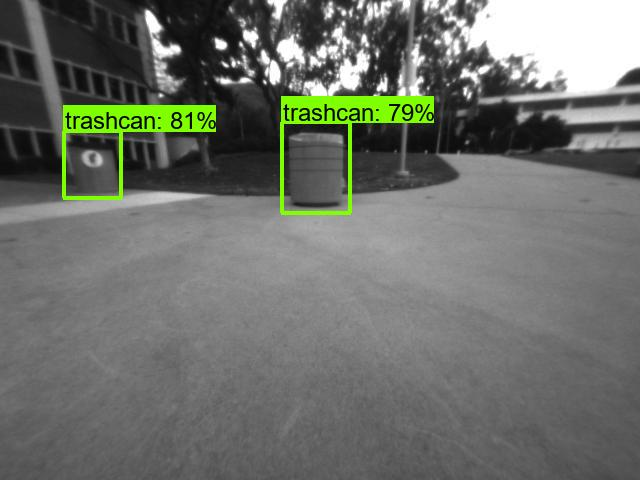trashcan: (286, 129, 348, 206), (63, 133, 121, 201)
